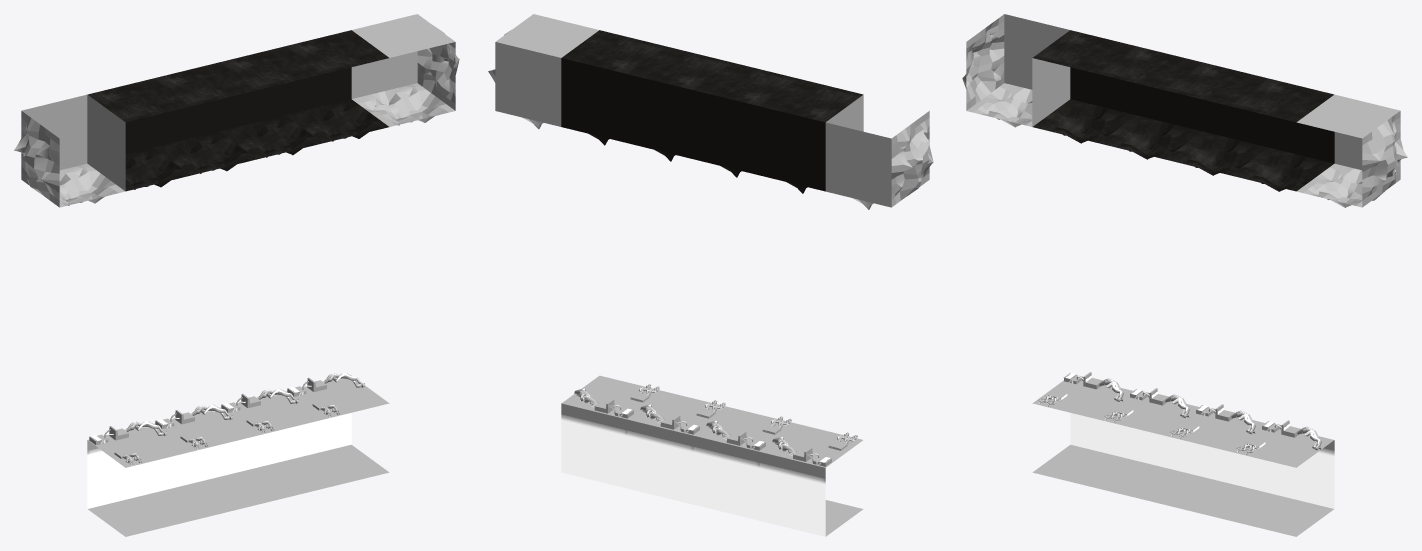
File: Cubi_Corridor12to13.fbx
3 renders of one model, left to right at view 1: azimuth 30°, elevation 25°; view 2: azimuth 150°, elevation 25°; view 3: azimuth 330°, elevation 25°, orthographic.
Parts seen in each view (by area): view 1: Cubes_Corridor12to13; view 2: Cubes_Corridor12to13; view 3: Cubes_Corridor12to13.
Part boxes in pixels (x1,y1,x2,y2): Cubes_Corridor12to13: (14, 14, 459, 536); Cubes_Corridor12to13: (488, 14, 933, 536); Cubes_Corridor12to13: (962, 14, 1407, 536).
Bounding box in the file's own units: 645 × 600 × 100.
